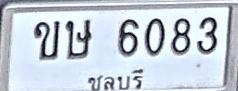0: (144, 17, 165, 56)
3: (197, 16, 218, 54)
6: (117, 18, 138, 56)
8: (170, 16, 190, 54)
A02: (33, 20, 60, 60)
A39: (65, 18, 92, 59)
CBI: (85, 67, 145, 91)
